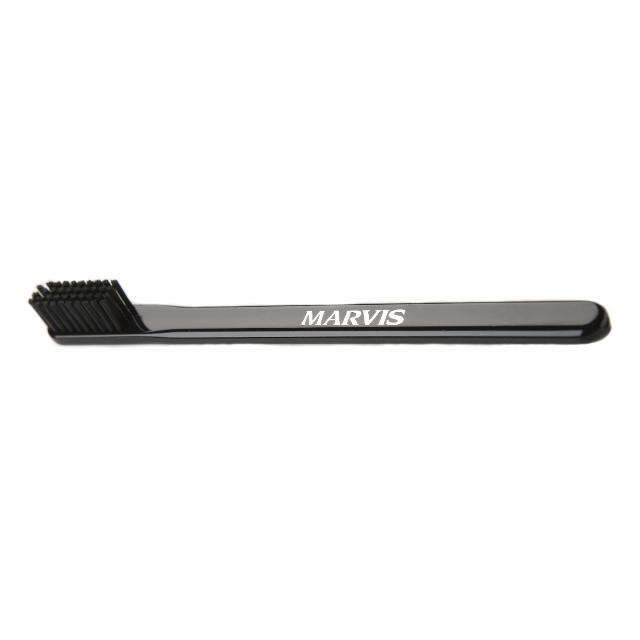toothbrush: (0, 256, 618, 402)
